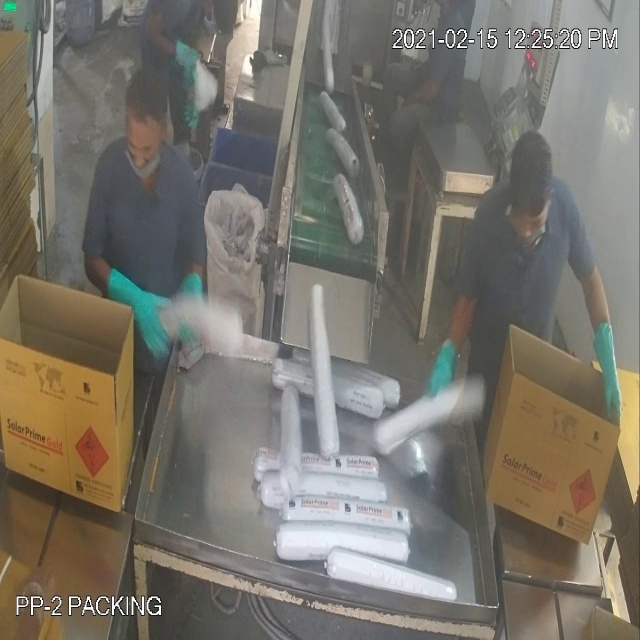Guantes: (107, 244, 177, 359), (590, 306, 627, 434)
Sin_guantes: (8, 554, 62, 640), (395, 66, 445, 114)
